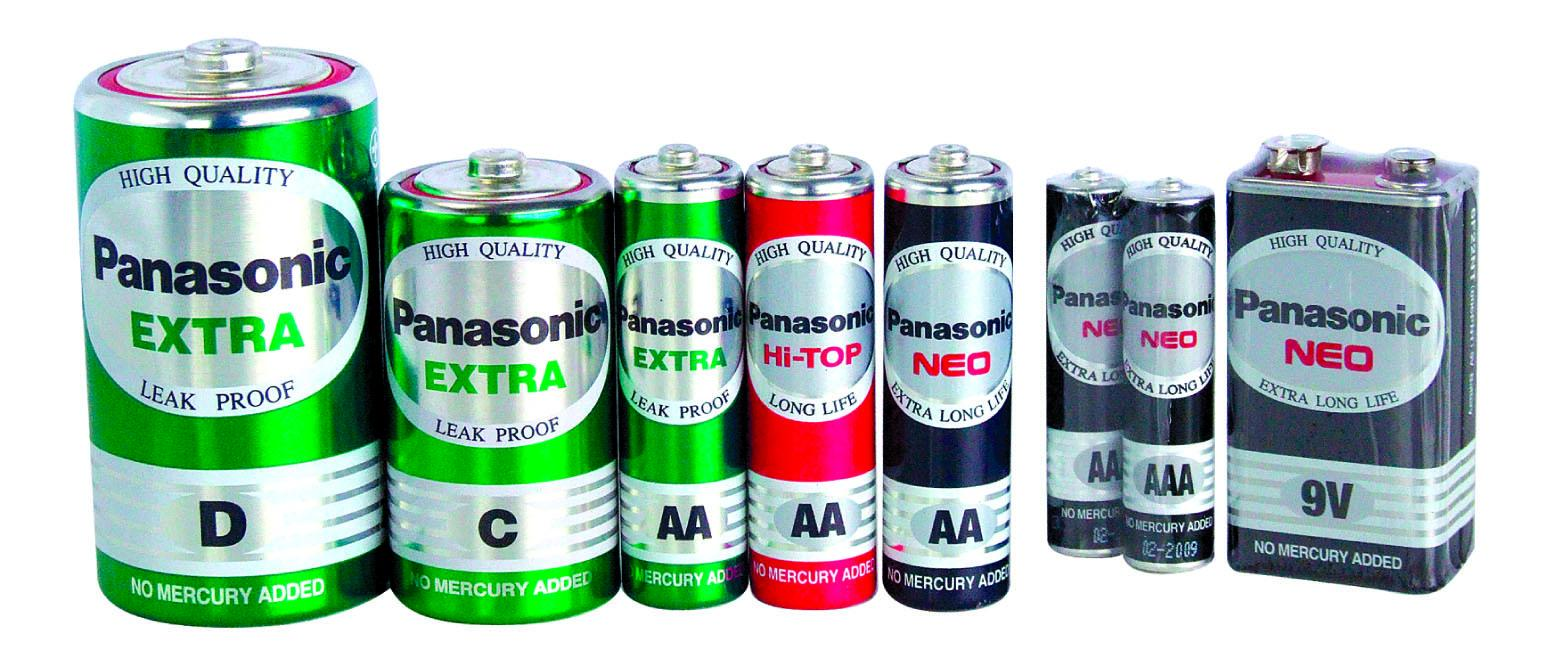Battery: (73, 34, 387, 629), (1223, 130, 1482, 599), (378, 146, 621, 627), (614, 140, 752, 611), (880, 144, 1017, 614), (745, 142, 879, 611), (1125, 174, 1219, 577), (1044, 164, 1125, 561)
